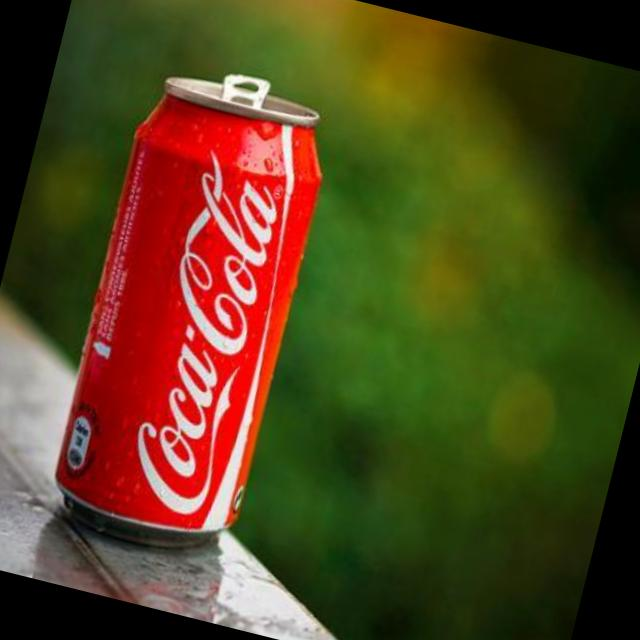metal: (53, 71, 317, 541)
